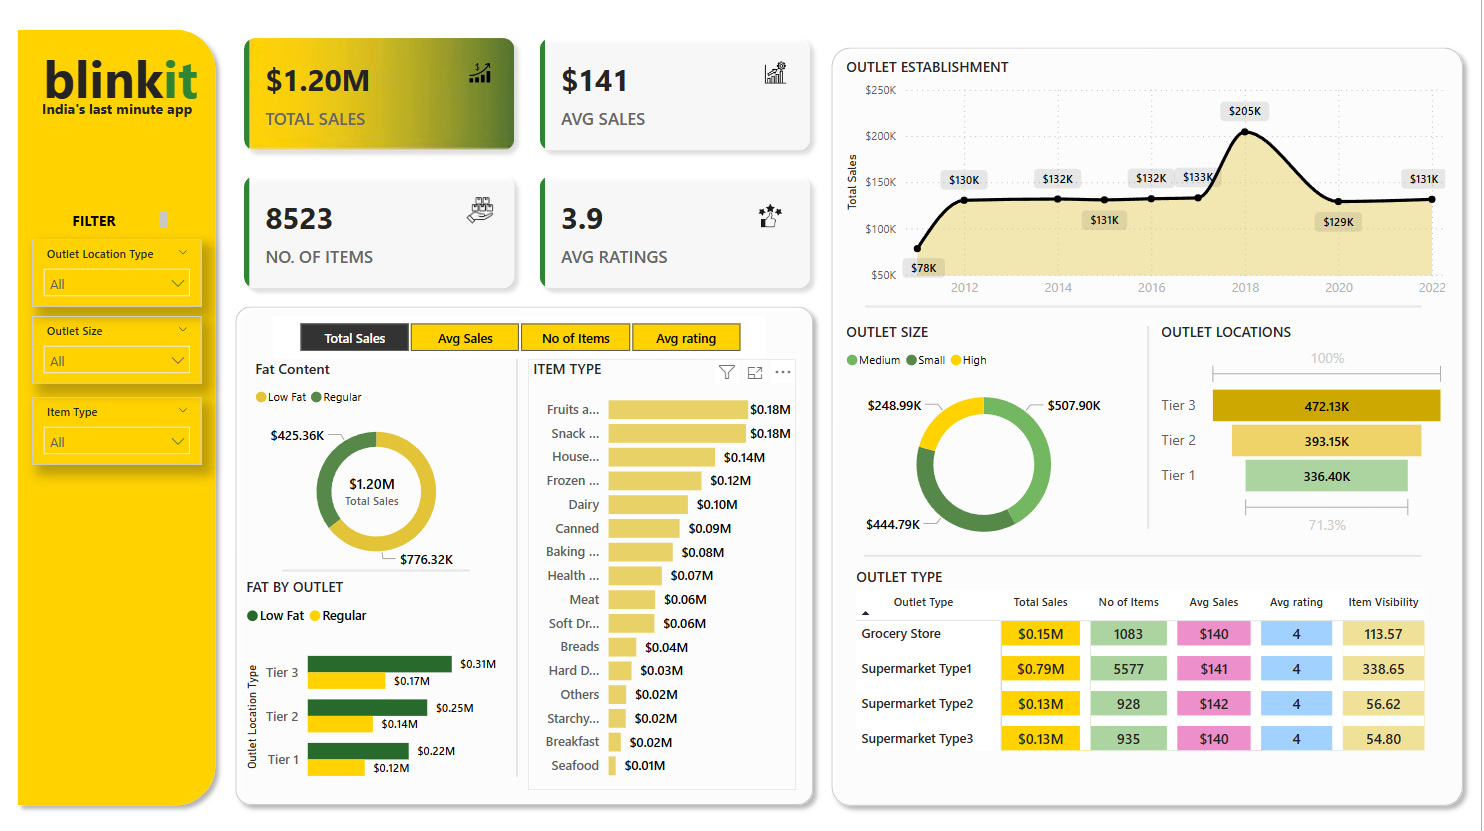

This screenshot's page, from the dashboard's own definition file:
{"tool":"powerbi","page":{"name":"Page 1","canvas":[1400,800],"ordinal":0},"visuals":[{"type":"shape","box":[10.4,24.5,204.7,750],"z":0},{"type":"textbox","box":[33,41.5,167,76.4],"z":1000},{"type":"textbox","box":[33,94.3,160.4,32.1],"z":2000},{"type":"cardVisual","fields":{"Data":["BlinkIT Grocery Data.Total Sales","BlinkIT Grocery Data.Avg Sales","BlinkIT Grocery Data.No of Items","BlinkIT Grocery Data.Avg rating"]},"box":[215.7,24.5,569.6,270.6],"z":3000},{"type":"shape","box":[215.7,286.3,562.7,488.2],"z":4000},{"type":"donutChart","title":"Fat Content","fields":{"Y":["BlinkIT Grocery Data.Total Sales"],"Category":["BlinkIT Grocery Data.Item Fat Content"]},"box":[238.2,344.1,238.2,205.9],"z":5000},{"type":"slicer","fields":{"Values":["Metrics.Metrics"]},"box":[260.8,303.9,464.7,40.2],"z":6000},{"type":"cardVisual","fields":{"Data":["BlinkIT Grocery Data.Total Sales"]},"box":[305.9,434.3,96.1,69.6],"z":7000},{"type":"clusteredBarChart","title":"FAT BY OUTLET","fields":{"Y":["BlinkIT Grocery Data.Total Sales"],"Category":["BlinkIT Grocery Data.Outlet Location Type"],"Series":["BlinkIT Grocery Data.Item Fat Content"]},"box":[230.4,550,246.1,210.8],"z":8000},{"type":"shape","box":[268.6,530.4,177.5,27.5],"z":9000},{"type":"shape","box":[402,344.1,177.5,394.1],"z":10000},{"type":"barChart","title":"ITEM TYPE","fields":{"Y":["BlinkIT Grocery Data.Total Sales"],"Category":["BlinkIT Grocery Data.Item Type"]},"box":[501,344.1,252.9,406.9],"z":11000},{"type":"shape","box":[778.4,41.2,613.7,733.3],"z":12000},{"type":"lineChart","title":"OUTLET ESTABLISHMENT","fields":{"Y":["BlinkIT Grocery Data.Total Sales"],"Category":["BlinkIT Grocery Data.Outlet Establishment Year"]},"box":[796.1,59.8,575.5,235.3],"z":13000},{"type":"shape","box":[818.6,281.4,525.5,27.5],"z":14000},{"type":"donutChart","title":"OUTLET SIZE","fields":{"Y":["BlinkIT Grocery Data.Total Sales"],"Category":["BlinkIT Grocery Data.Outlet Size"]},"box":[796.3,309.3,269.4,224.5],"z":15000},{"type":"shape","box":[996.9,313.3,177.6,191.6],"z":16000},{"type":"funnel","title":"OUTLET LOCATIONS","fields":{"Y":["Sum(BlinkIT Grocery Data.Sales)"],"Category":["BlinkIT Grocery Data.Outlet Location Type"]},"box":[1093.7,309.3,278.4,206.6],"z":17000},{"type":"shape","box":[818.2,515.9,525.9,27.9],"z":18000},{"type":"pivotTable","title":"OUTLET TYPE","fields":{"Rows":["BlinkIT Grocery Data.Outlet Type"],"Values":["BlinkIT Grocery Data.Total Sales","BlinkIT Grocery Data.No of Items","BlinkIT Grocery Data.Avg Sales","BlinkIT Grocery Data.Avg rating","Sum(BlinkIT Grocery Data.Item Visibility)"]},"box":[805.3,540.8,554.8,197.6],"z":19000},{"type":"slicer","fields":{"Values":["BlinkIT Grocery Data.Outlet Location Type"]},"box":[33,231.1,160.4,64.2],"z":20000},{"type":"slicer","fields":{"Values":["BlinkIT Grocery Data.Outlet Size"]},"box":[33,303.8,160.4,64.2],"z":21000},{"type":"slicer","fields":{"Values":["BlinkIT Grocery Data.Item Type"]},"box":[33,380.2,160.4,64.2],"z":22000},{"type":"textbox","box":[66,200,99.5,30.7],"z":23000}]}

Visuals, with their boxes in screenshot pixels (x1, y1, x2, y2), scaled from the page's 1400x800 canvas onto the 1484x831 screenshot:
shape: [x1=11, y1=25, x2=228, y2=805]
textbox: [x1=35, y1=43, x2=212, y2=122]
textbox: [x1=35, y1=98, x2=205, y2=131]
cardVisual - BlinkIT Grocery Data.Total Sales x BlinkIT Grocery Data.Avg Sales: [x1=229, y1=25, x2=832, y2=307]
shape: [x1=229, y1=297, x2=825, y2=805]
"Fat Content" donutChart: [x1=252, y1=357, x2=505, y2=571]
slicer - Metrics.Metrics: [x1=276, y1=316, x2=769, y2=357]
cardVisual - BlinkIT Grocery Data.Total Sales: [x1=324, y1=451, x2=426, y2=523]
"FAT BY OUTLET" clusteredBarChart: [x1=244, y1=571, x2=505, y2=790]
shape: [x1=285, y1=551, x2=473, y2=580]
shape: [x1=426, y1=357, x2=614, y2=767]
"ITEM TYPE" barChart: [x1=531, y1=357, x2=799, y2=780]
shape: [x1=825, y1=43, x2=1476, y2=805]
"OUTLET ESTABLISHMENT" lineChart: [x1=844, y1=62, x2=1454, y2=307]
shape: [x1=868, y1=292, x2=1425, y2=321]
"OUTLET SIZE" donutChart: [x1=844, y1=321, x2=1130, y2=554]
shape: [x1=1057, y1=325, x2=1245, y2=524]
"OUTLET LOCATIONS" funnel: [x1=1159, y1=321, x2=1454, y2=536]
shape: [x1=867, y1=536, x2=1425, y2=565]
"OUTLET TYPE" pivotTable: [x1=854, y1=562, x2=1442, y2=767]
slicer - BlinkIT Grocery Data.Outlet Location Type: [x1=35, y1=240, x2=205, y2=307]
slicer - BlinkIT Grocery Data.Outlet Size: [x1=35, y1=316, x2=205, y2=382]
slicer - BlinkIT Grocery Data.Item Type: [x1=35, y1=395, x2=205, y2=462]
textbox: [x1=70, y1=208, x2=175, y2=240]
